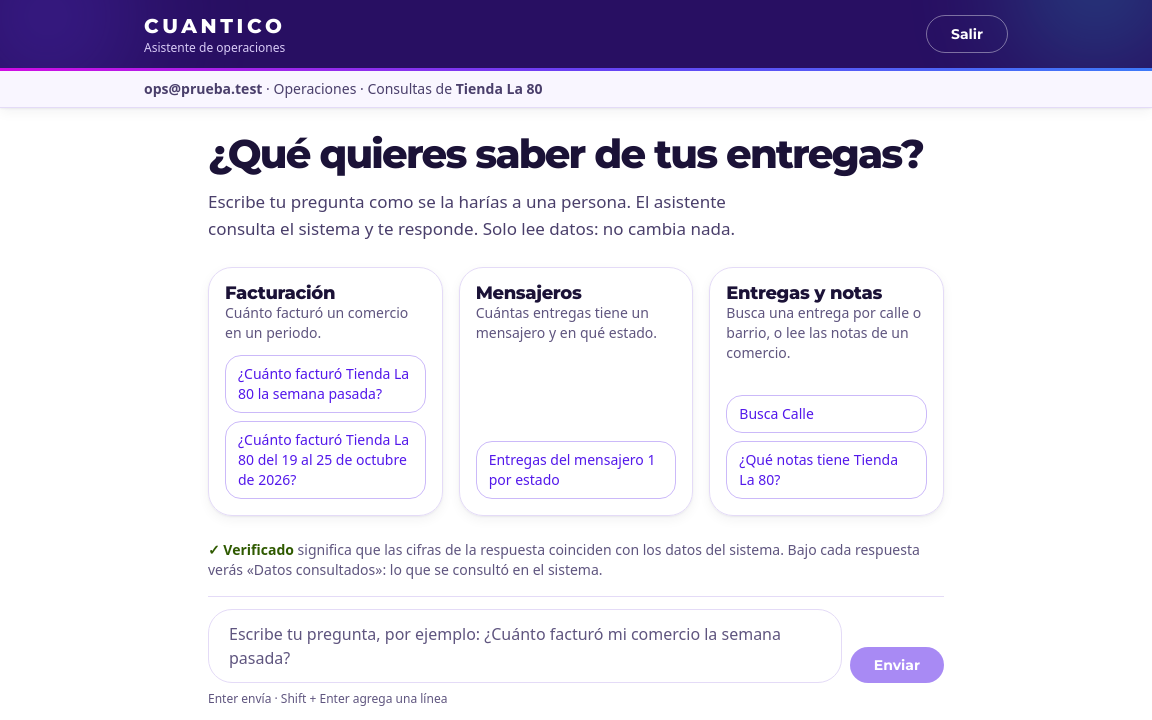
Test: ChatPage › no ofrece Reintentar cuando el error es 429
Type "x" into the text box named "Mensaje" at [525, 646], box x1=208 y1=609 x2=842 y2=683
Then press Enter
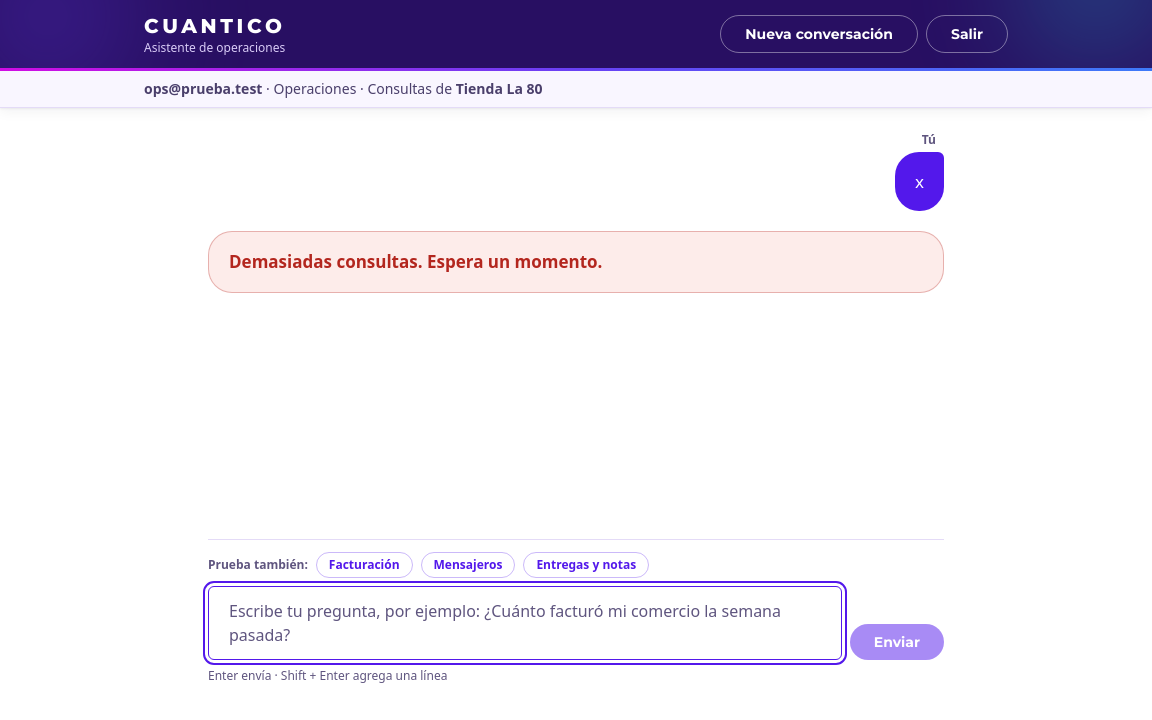
Expected: the text "Demasiadas consultas. Espera un momento." is shown, x1=229 y1=248 x2=602 y2=276
